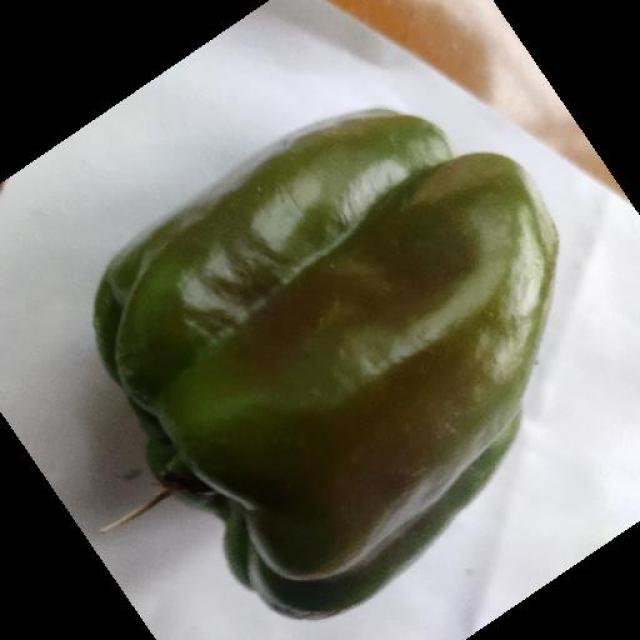Stale_Capsicum: (102, 112, 551, 580)
